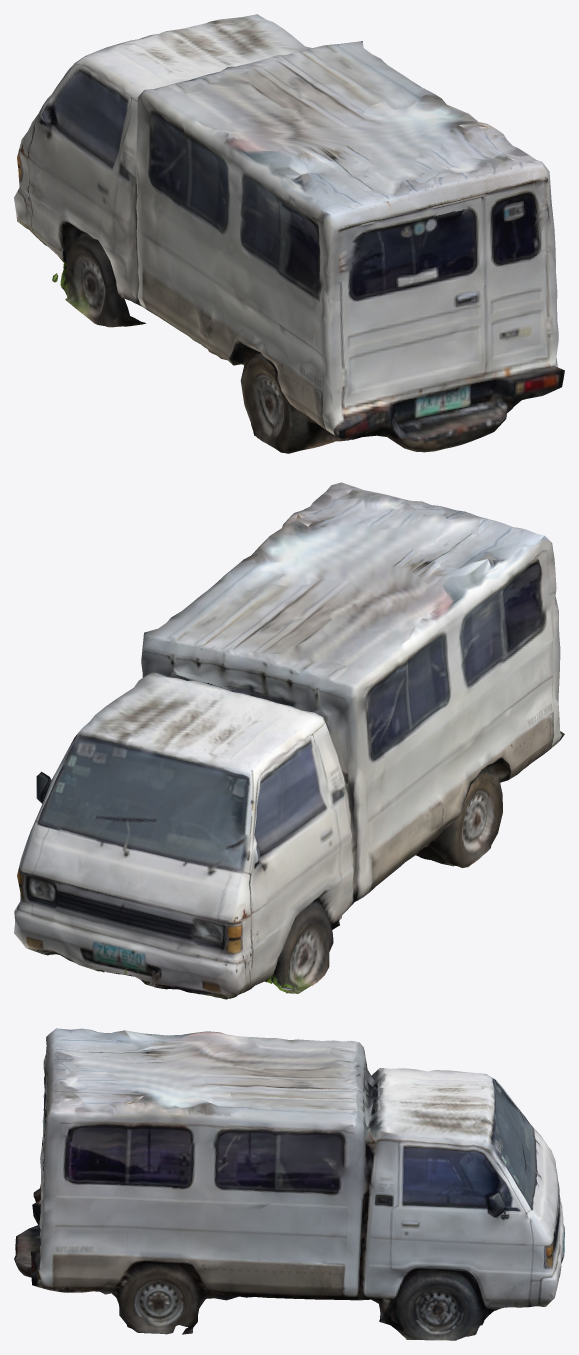
Rendered from abandoned_car__vehicle_multicab_3d_scan.glb.
3 views of the same model, one above another, from view 1: azimuth 30°, elevation 25°; view 2: azimuth 150°, elevation 25°; view 3: azimuth 270°, elevation 25° (orthographic). The views are drawn at different scales.
Parts seen in each view (by area): view 1: Multicab 1_0; view 2: Multicab 1_0; view 3: Multicab 1_0.
Part boxes in pixels (x1,y1,x2,y2): Multicab 1_0: (14,14,564,453); Multicab 1_0: (14,482,564,999); Multicab 1_0: (14,1028,564,1340).
Size of the model in its own units: 1.77 by 1.95 by 4.24.
Materials: 1 (1 with a texture image).
